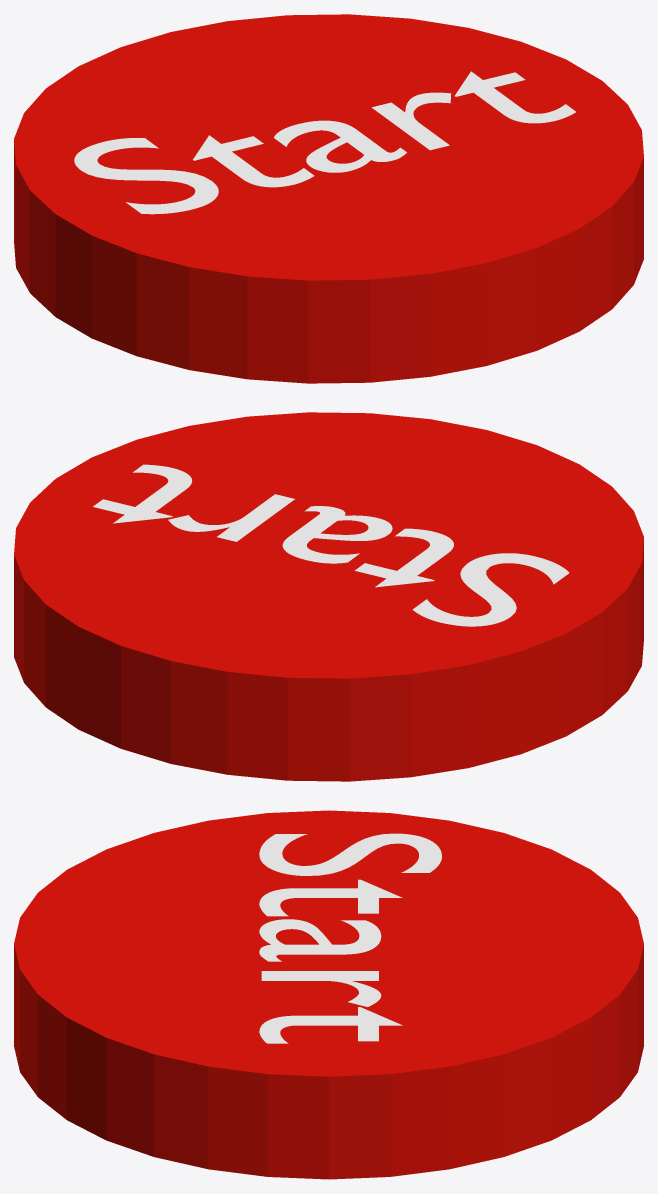
Rendered from button.gltf.
3 views of the same model, one above another, from view 1: azimuth 30°, elevation 25°; view 2: azimuth 150°, elevation 25°; view 3: azimuth 270°, elevation 25° (orthographic).
Visible parts, largest first — view 1: Cylinder, Text; view 2: Cylinder, Text; view 3: Cylinder, Text.
Boxes of the visible parts, x1,y1,x2,y2 form: Cylinder: (14,14,643,383); Text: (74,71,575,214); Cylinder: (14,412,643,781); Text: (93,464,569,626); Cylinder: (14,810,643,1179); Text: (259,833,441,1043).
Size of the model in its own units: 2 by 0.3788 by 2.
